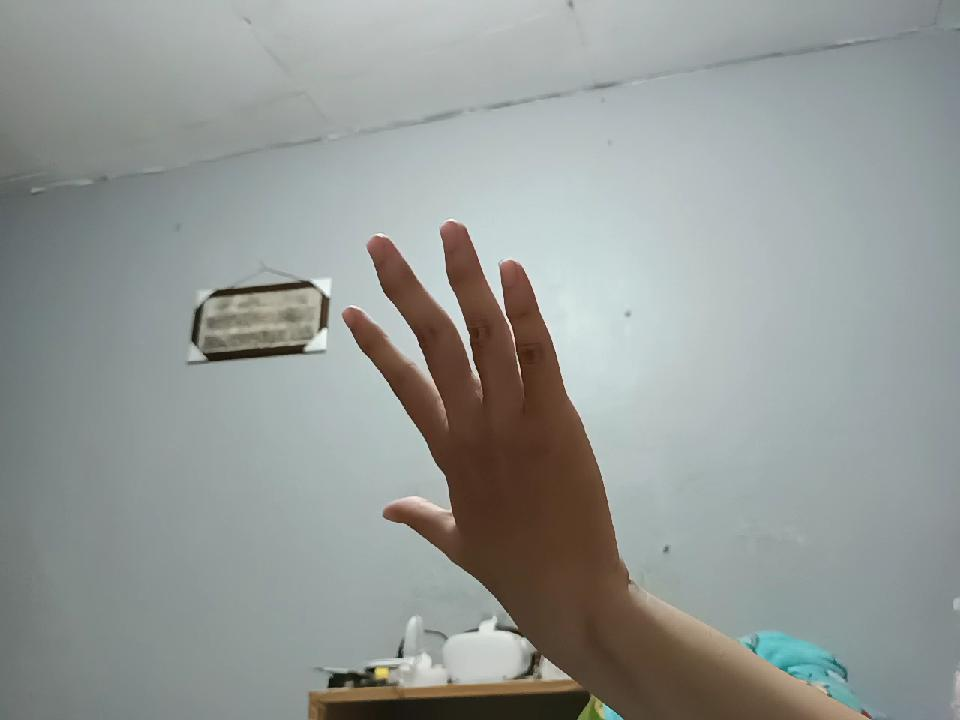paper: (354, 216, 588, 622)
